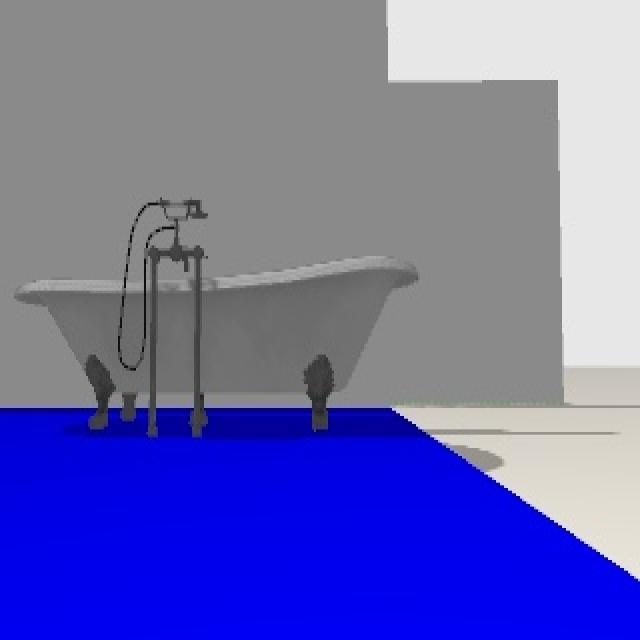bathtub: (17, 192, 421, 433)
